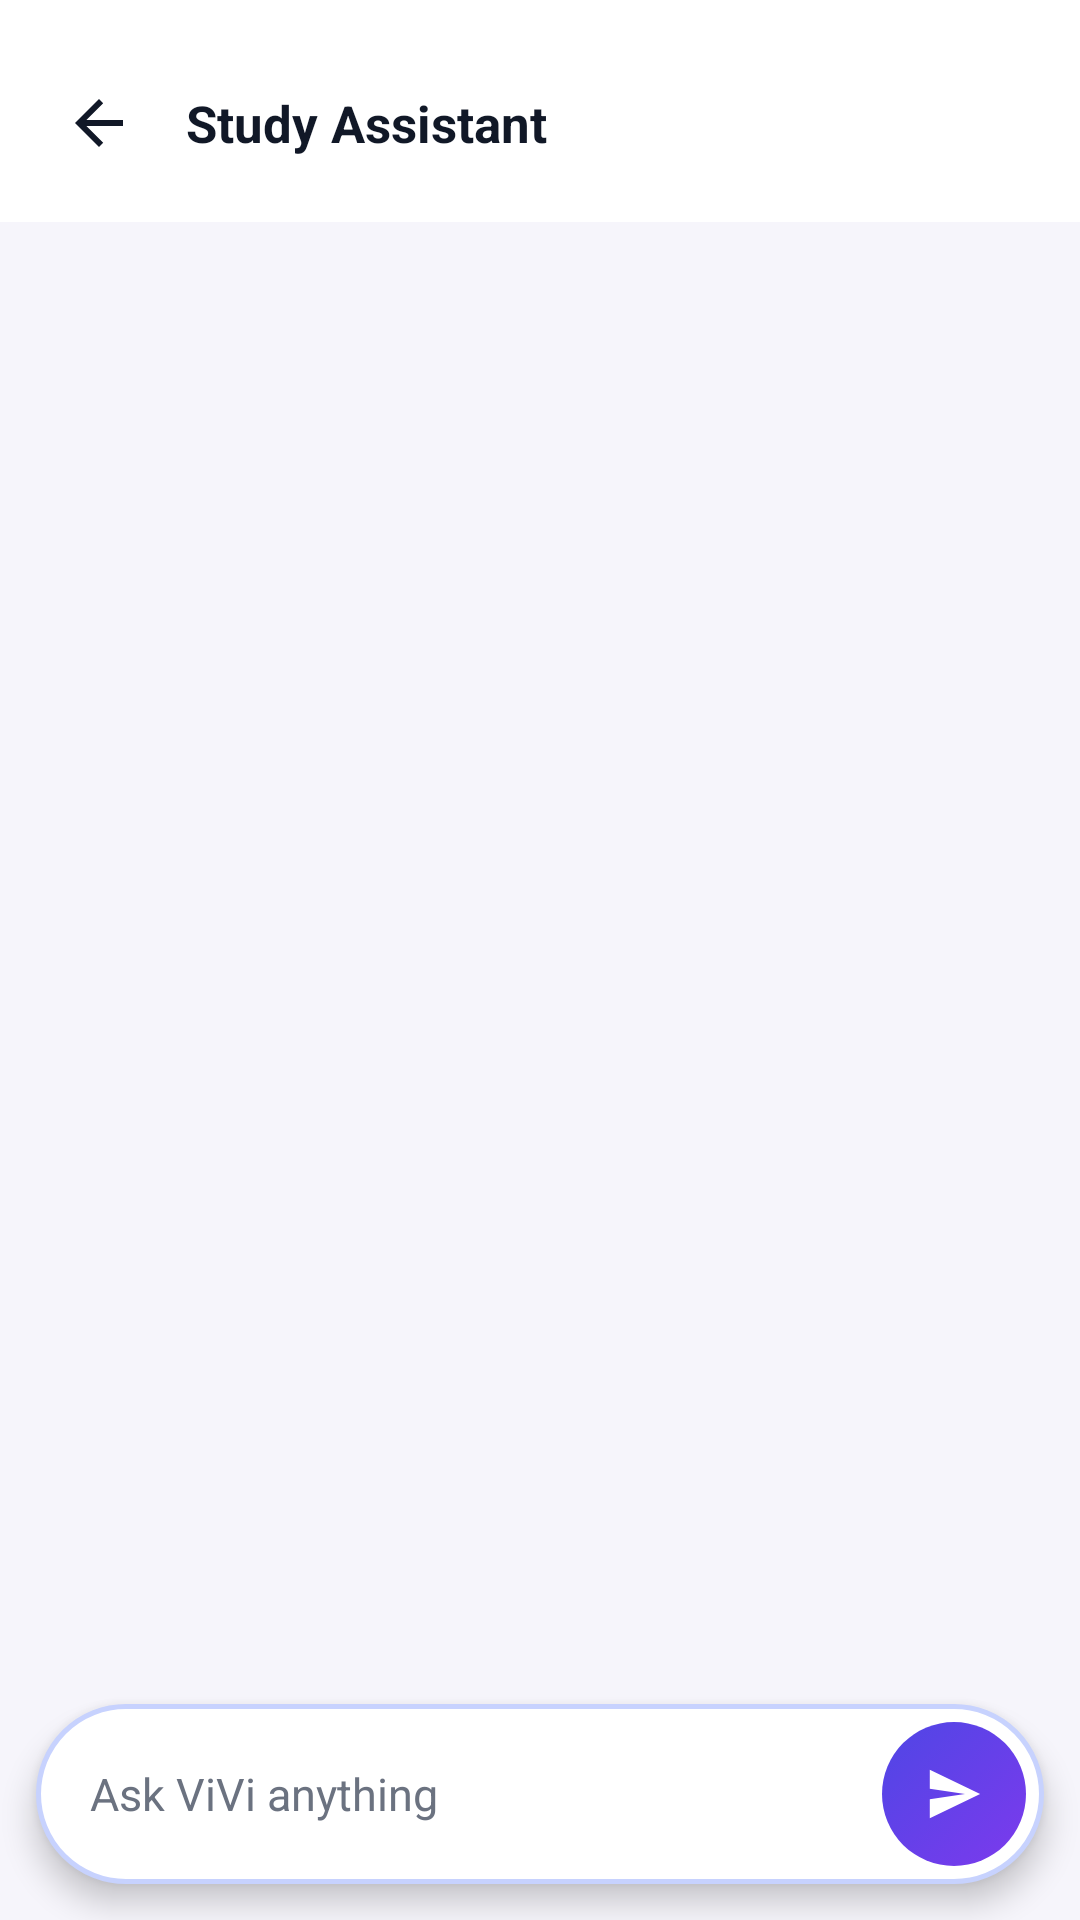

Point at icon controls on the screen. Image size 1080 × 1920, points as point (x, y).
Send: point (954, 1794)
